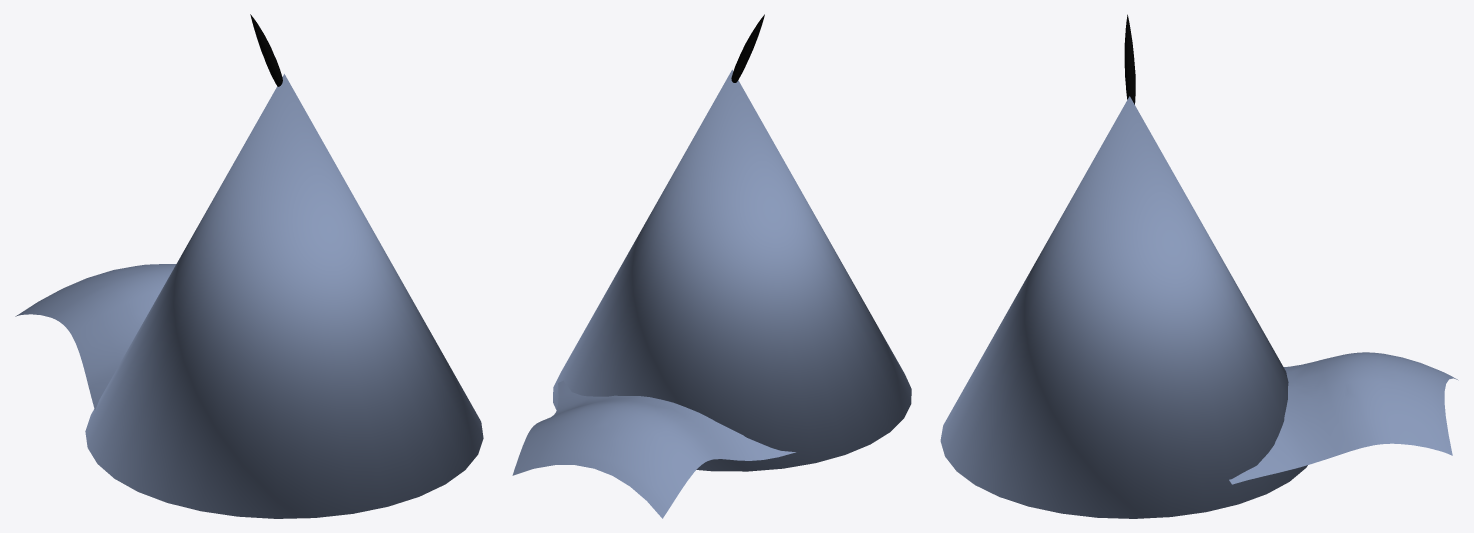
File: camera hat.fbx
3 renders of one model, left to right at view 1: azimuth 30°, elevation 25°; view 2: azimuth 150°, elevation 25°; view 3: azimuth 270°, elevation 25°, orthographic. The views are drawn at different scales.
Parts seen in each view (by area): view 1: CAMERA HAT; view 2: CAMERA HAT; view 3: CAMERA HAT.
Part boxes in pixels (left/top/right/bottom): CAMERA HAT: left=15, top=14, right=483, bottom=518; CAMERA HAT: left=512, top=14, right=911, bottom=518; CAMERA HAT: left=940, top=14, right=1458, bottom=518.
Bounding box in the file's own units: 35.59 × 42.41 × 48.81.
